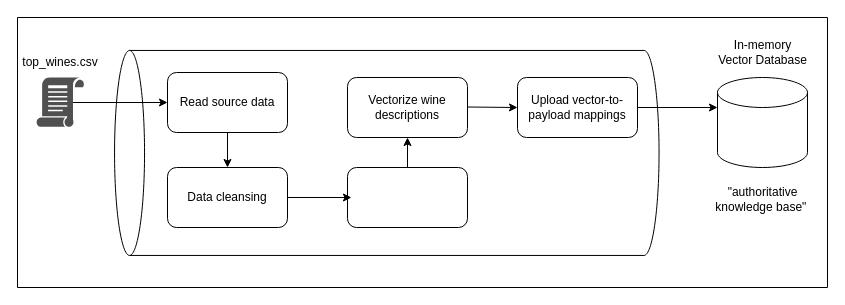
The diagram is 845 pixels wide and 305 high, and some of its shapes have lost their labels. Here are the shapes that lost their labels. From the top down, the centre of each, then its label:
At (x=762, y=122): "Qdrant".
At (x=407, y=197): "Transform rows to records".
